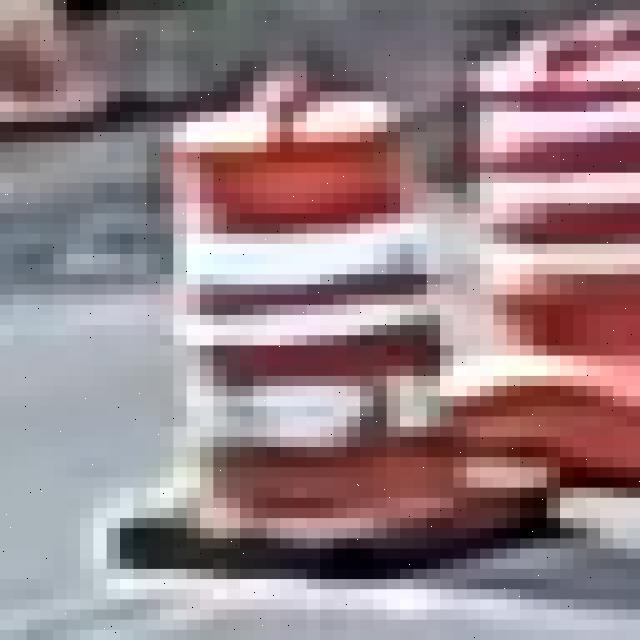big_cone: (173, 112, 415, 541)
